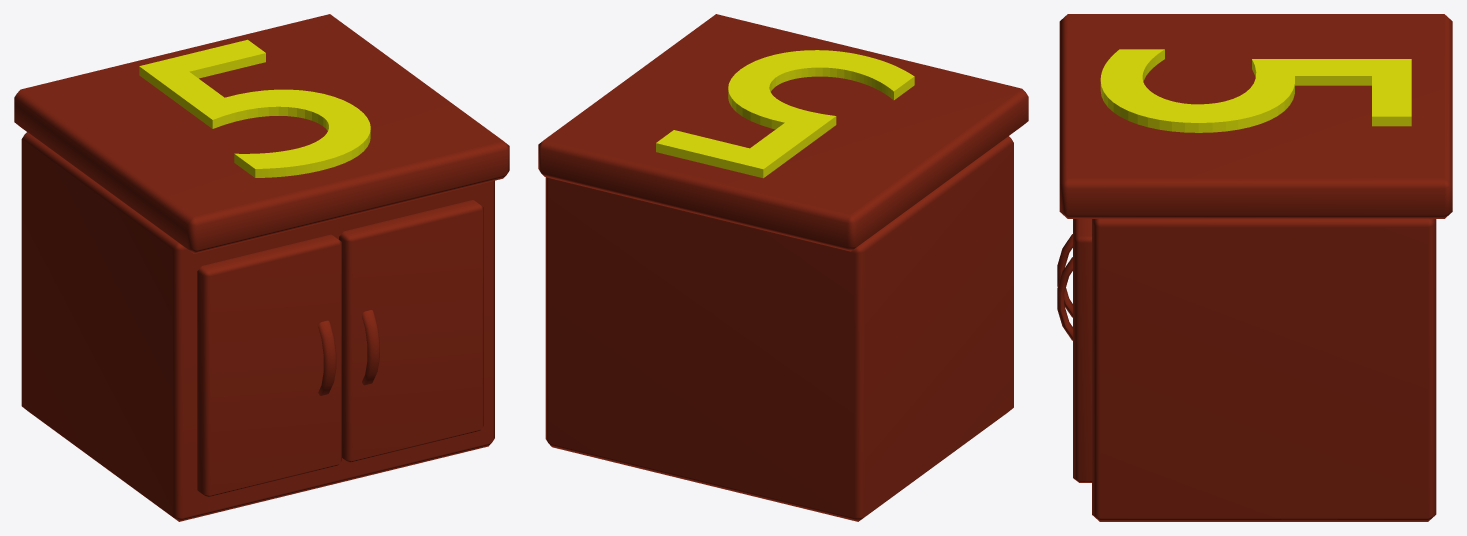
The picture shows the model from 3 angles, left to right: view 1: azimuth 30°, elevation 25°; view 2: azimuth 150°, elevation 25°; view 3: azimuth 270°, elevation 25°; orthographic projection. The views are drawn at different scales.
Visible parts, largest first — view 1: Cube.005, Text.004; view 2: Cube.005, Text.004; view 3: Cube.005, Text.004.
Part boxes in pixels (x1=…): Cube.005: x1=14, y1=14, x2=509, y2=521; Text.004: x1=139, y1=39, x2=370, y2=177; Cube.005: x1=538, y1=14, x2=1028, y2=521; Text.004: x1=656, y1=50, x2=914, y2=178; Cube.005: x1=1057, y1=14, x2=1452, y2=521; Text.004: x1=1100, y1=49, x2=1411, y2=132.
Bounding box in the file's own units: 89.87 × 86.75 × 87.83.
